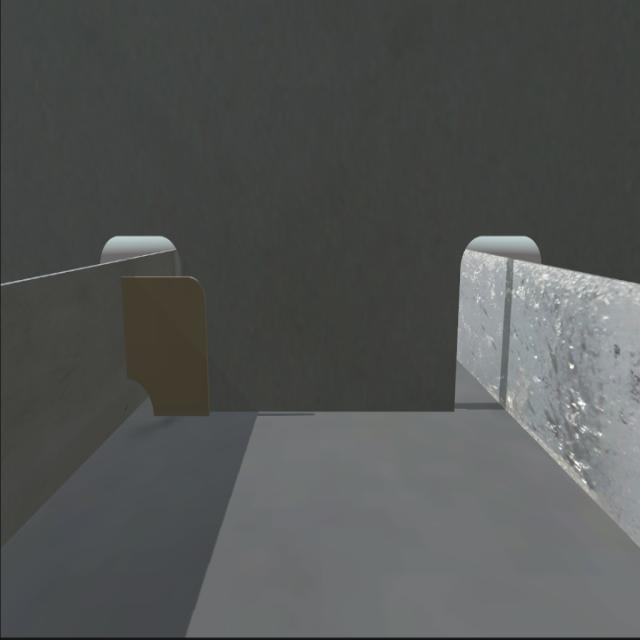fillet_hole: (125, 376, 154, 415)
fillet_yong_jeop_jang: (149, 404, 461, 420)
longi_yong_jeop_jang: (118, 270, 136, 383)
plate_CP05: (122, 276, 210, 414)
